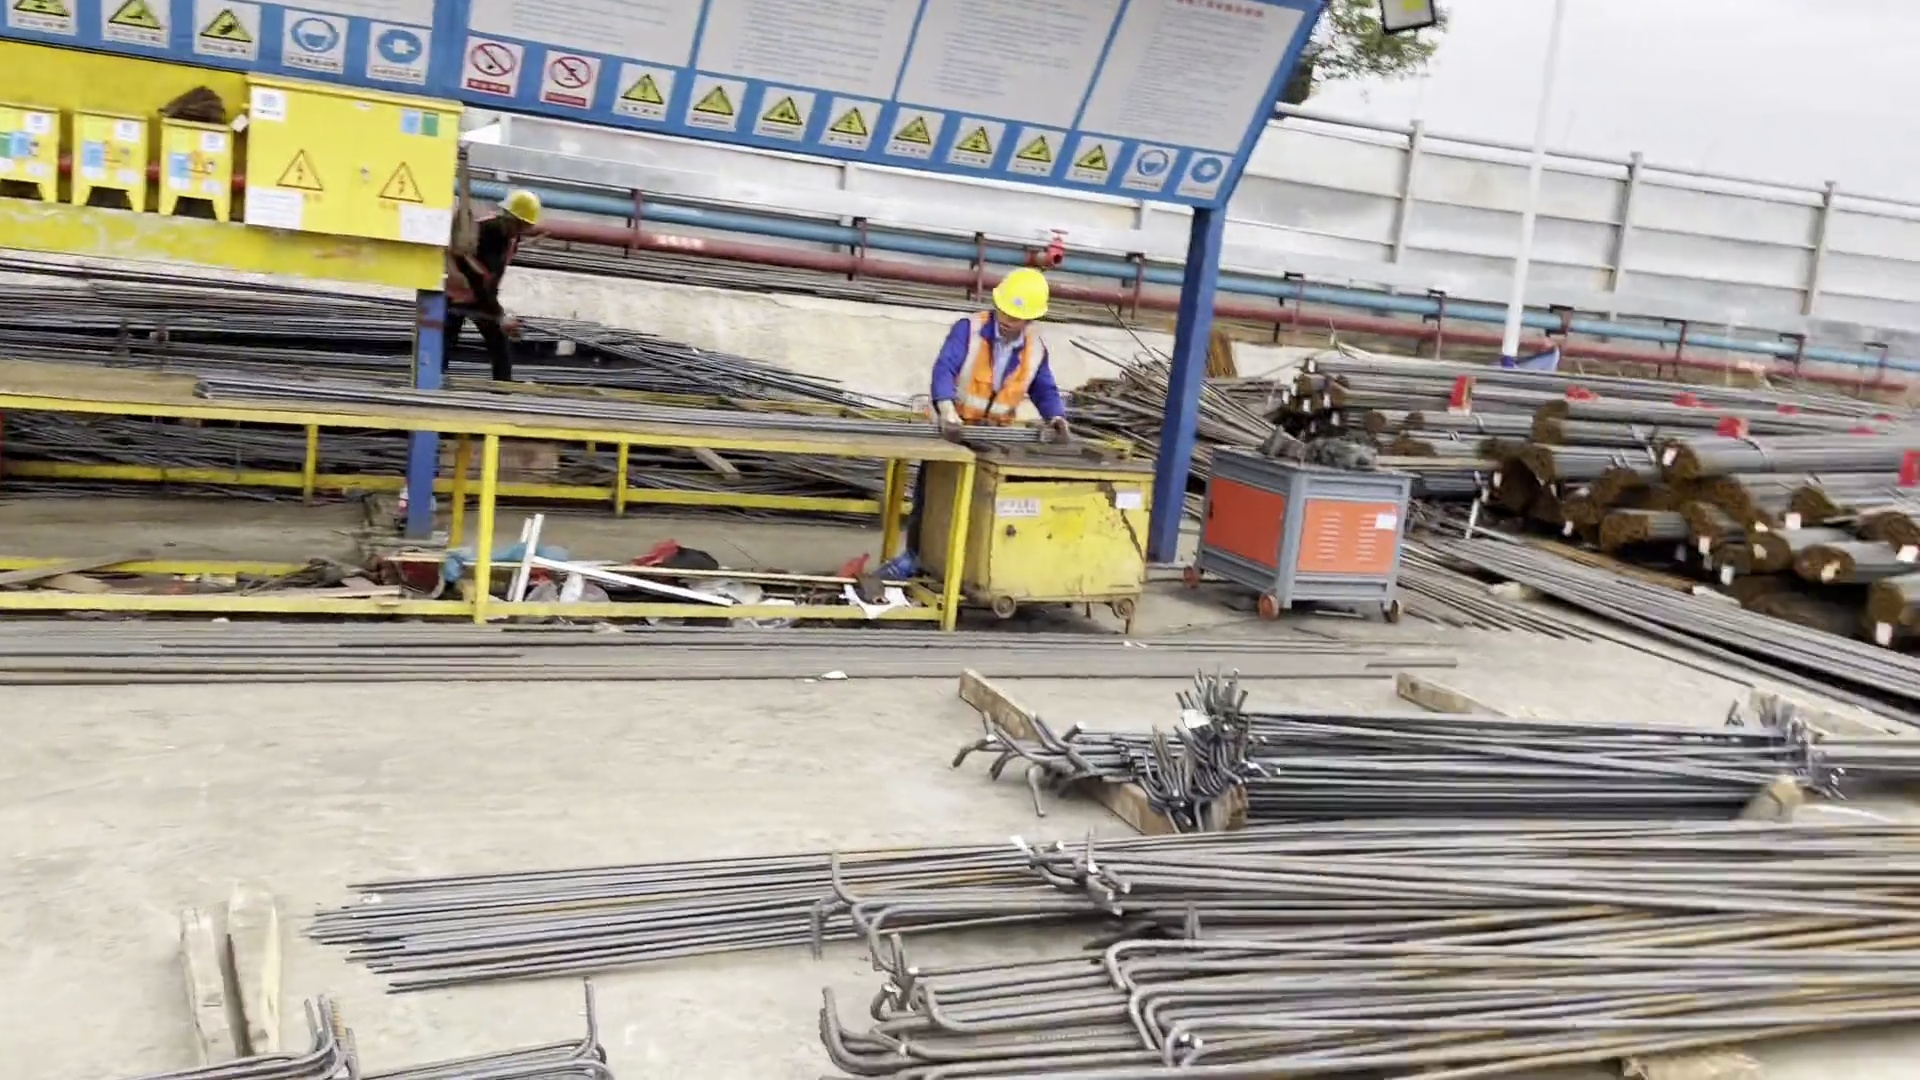ebox: (236, 58, 469, 250)
helmet: (989, 268, 1049, 324), (501, 195, 543, 230)
person: (903, 271, 1080, 445), (433, 193, 552, 391)
rebar: (1301, 346, 1668, 396), (1310, 371, 1569, 413), (1678, 437, 1920, 477), (1504, 431, 1672, 486), (1715, 476, 1920, 514), (1541, 388, 1699, 433), (1521, 412, 1738, 442), (1398, 394, 1546, 436), (1729, 521, 1848, 569), (1793, 538, 1919, 583), (1854, 578, 1920, 643), (1397, 451, 1503, 490), (1597, 503, 1685, 550), (1692, 547, 1763, 599), (1350, 395, 1420, 436), (1550, 479, 1608, 527), (1681, 499, 1741, 542)
vest: (948, 313, 1037, 416), (445, 226, 517, 316)
